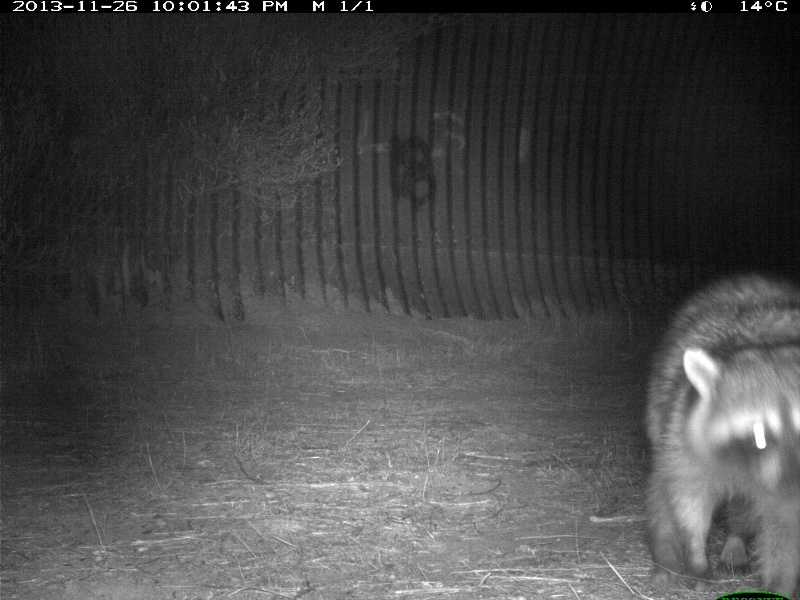raccoon: (642, 277, 800, 589)
